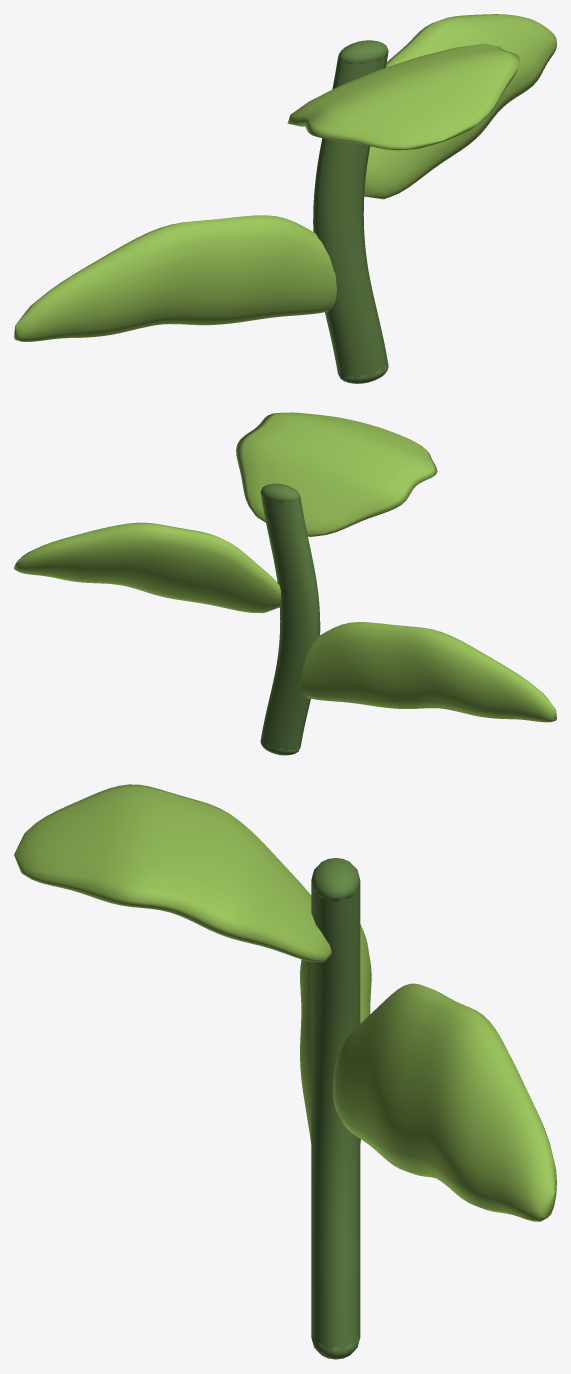
File: crop_4_stage_1.fbx
3 views of the same model, one above another, from view 1: azimuth 30°, elevation 25°; view 2: azimuth 150°, elevation 25°; view 3: azimuth 270°, elevation 25° (orthographic). The views are drawn at different scales.
Parts seen in each view (by area): view 1: crop_4_stage_1; view 2: crop_4_stage_1; view 3: crop_4_stage_1.
Part boxes in pixels (x1,y1,x2,y2): crop_4_stage_1: [14, 14, 556, 383]; crop_4_stage_1: [14, 412, 556, 755]; crop_4_stage_1: [14, 784, 556, 1359].
Size of the model in its own units: 0.32 by 0.18 by 0.17.
Materials: 1 (1 with a texture image).
